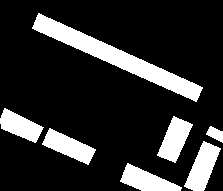parkingspot: (32, 13, 202, 101), (42, 128, 95, 164), (184, 141, 220, 191), (120, 163, 181, 191), (157, 116, 192, 162), (0, 108, 43, 142), (206, 126, 223, 142)
